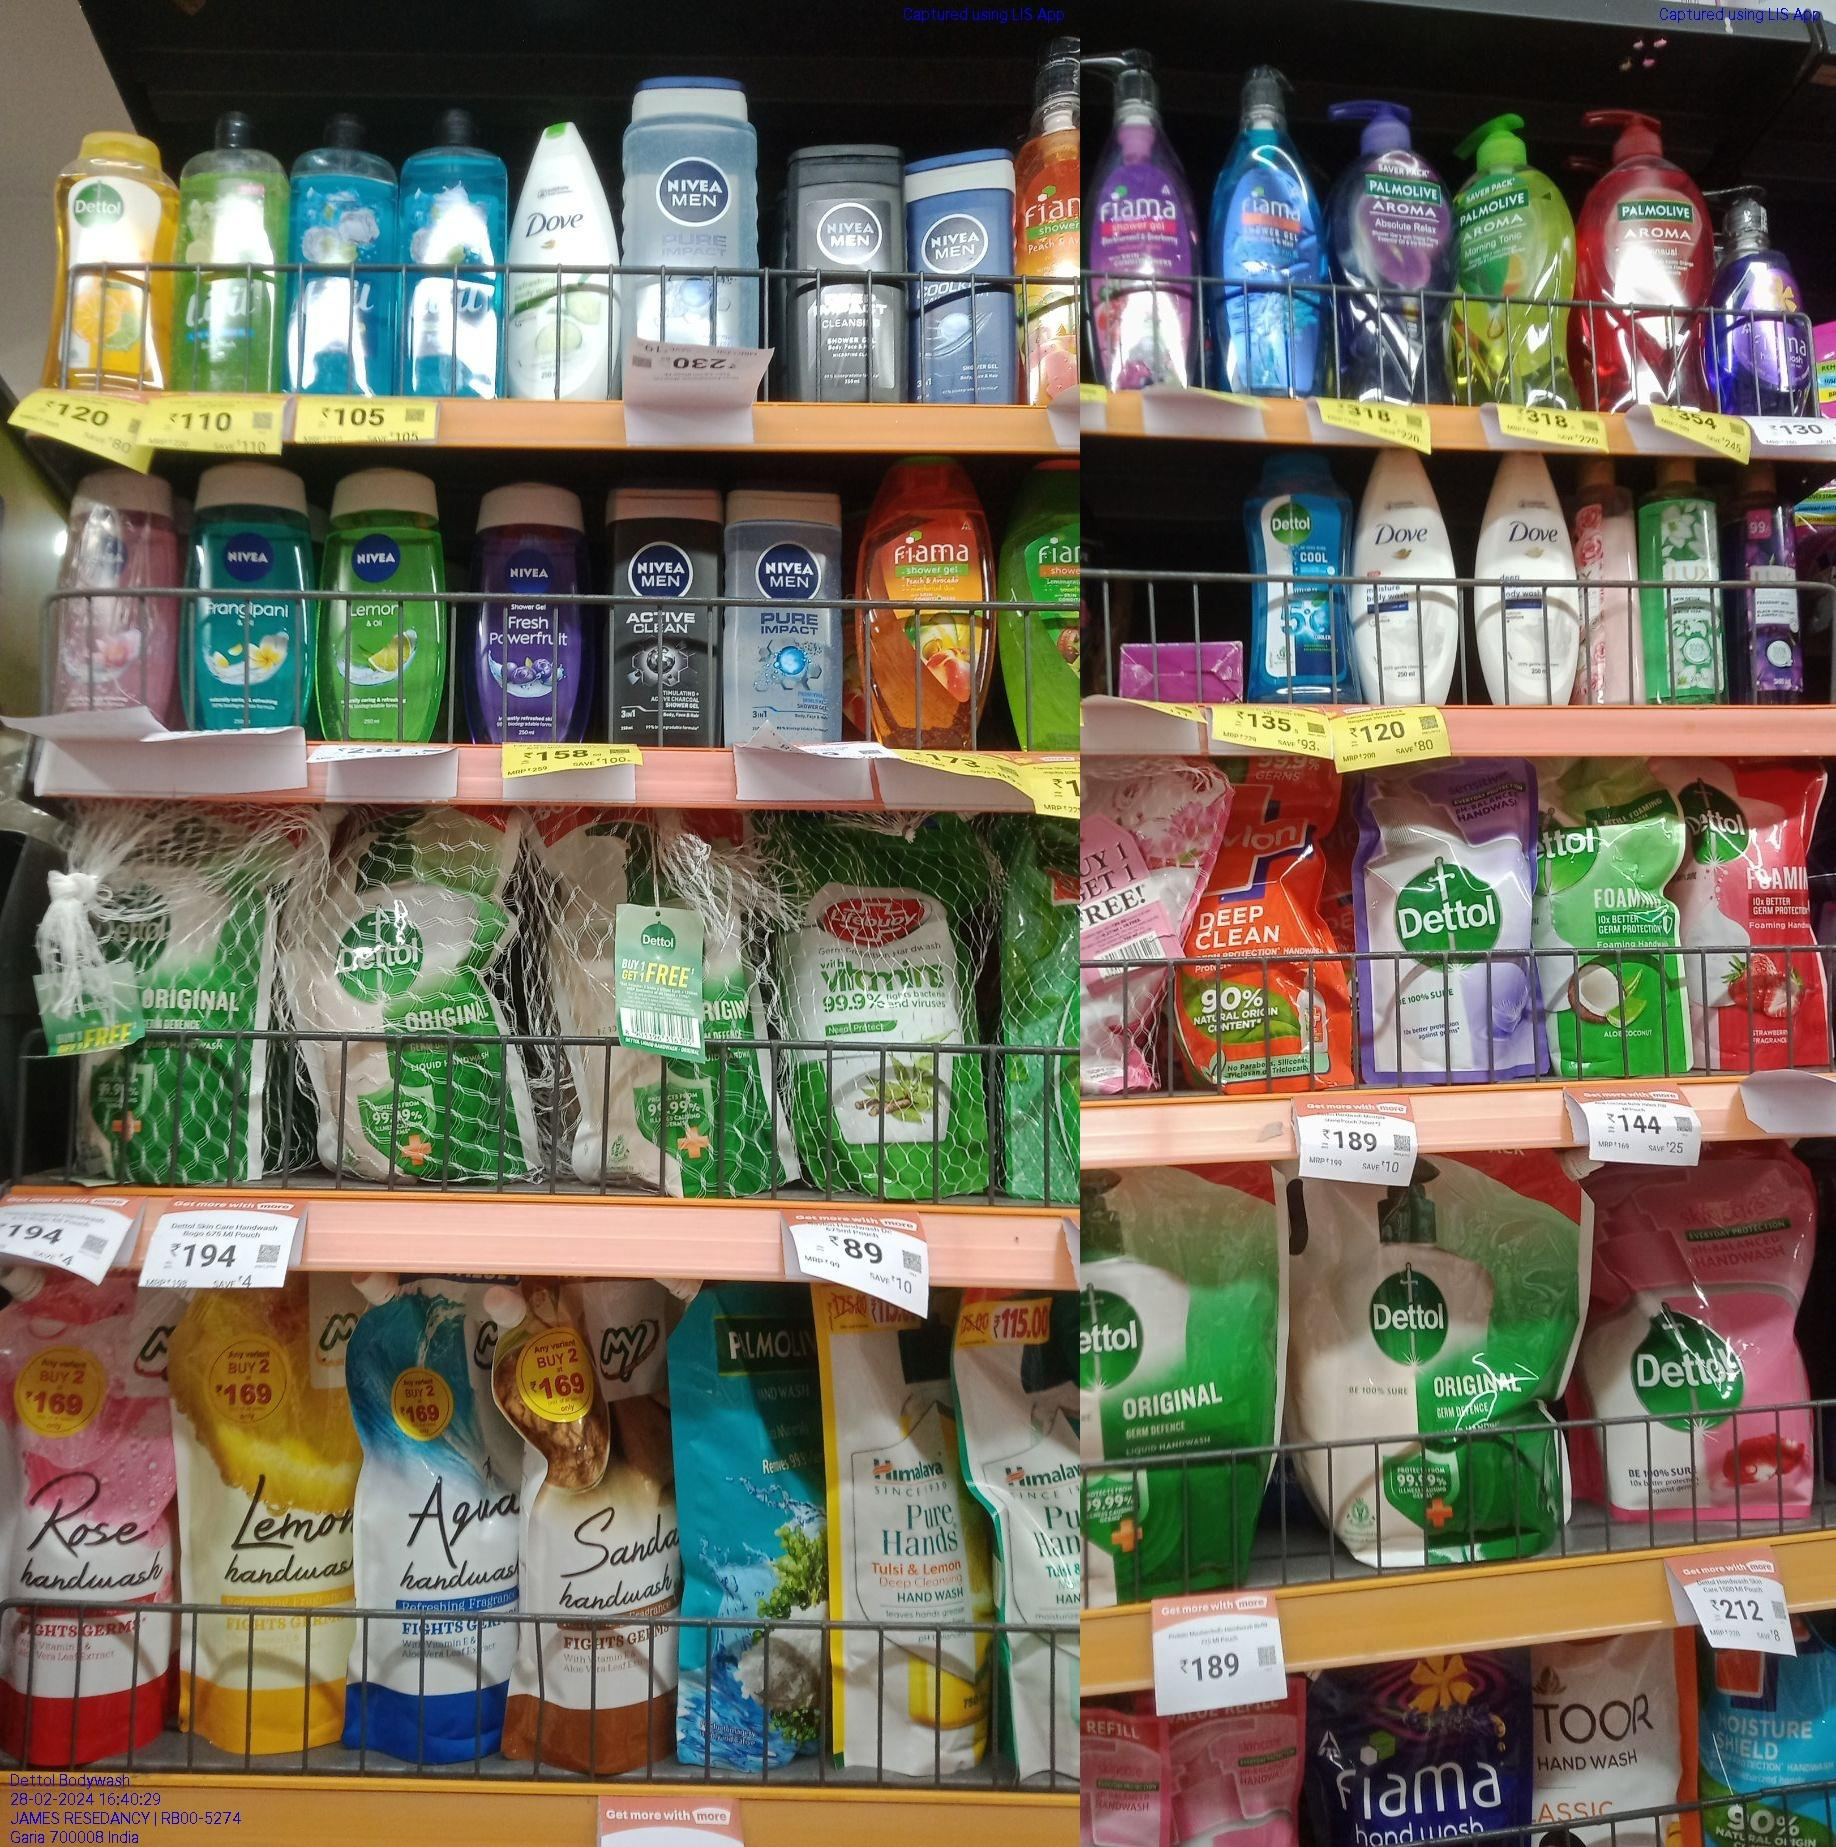Dettol_Bodywash_Cool: (1251, 447, 1352, 706)
Dettol_Bodywash_Refresh: (54, 133, 170, 400)
Dove_Deep_Moisture_Body_Wash_250ML: (1476, 450, 1585, 711), (1359, 447, 1461, 711)
Dove_Refreshing_Body_Wash_250ML: (509, 116, 622, 403)
Fiama_Shower_Gel_Peach_and_Avocado_250ML: (859, 460, 990, 741)
Liril_Cooling_Mint_Body_Wash_250ML: (284, 99, 398, 393), (410, 99, 504, 398)
Liril_Lime_and_Tea_Tree_Oil_Body_Wash_250ML: (180, 101, 286, 393)
Lux_Black_Orchid_Scent_and_Juniper_Oil_Body_Wash_245ML: (1735, 459, 1806, 711)
Lux_Body_Wash_Skin_Detox_Freesia_Scent_and_Alove_Vera_245ML: (1656, 459, 1732, 706)
Nivea_Shower_Gel_Frangipani_and_Oil_250ML: (187, 445, 313, 736)
Nivea_Shower_Gel_Fresh_Powerfruit_250ML: (467, 491, 585, 753)
Nivea_Shower_Gel_Lemon_and_Oil_250ML: (321, 450, 442, 738)
